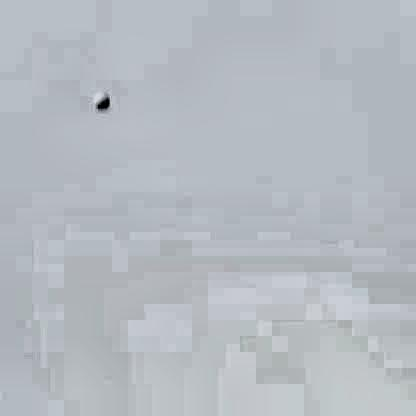golfball: (90, 86, 108, 108)
